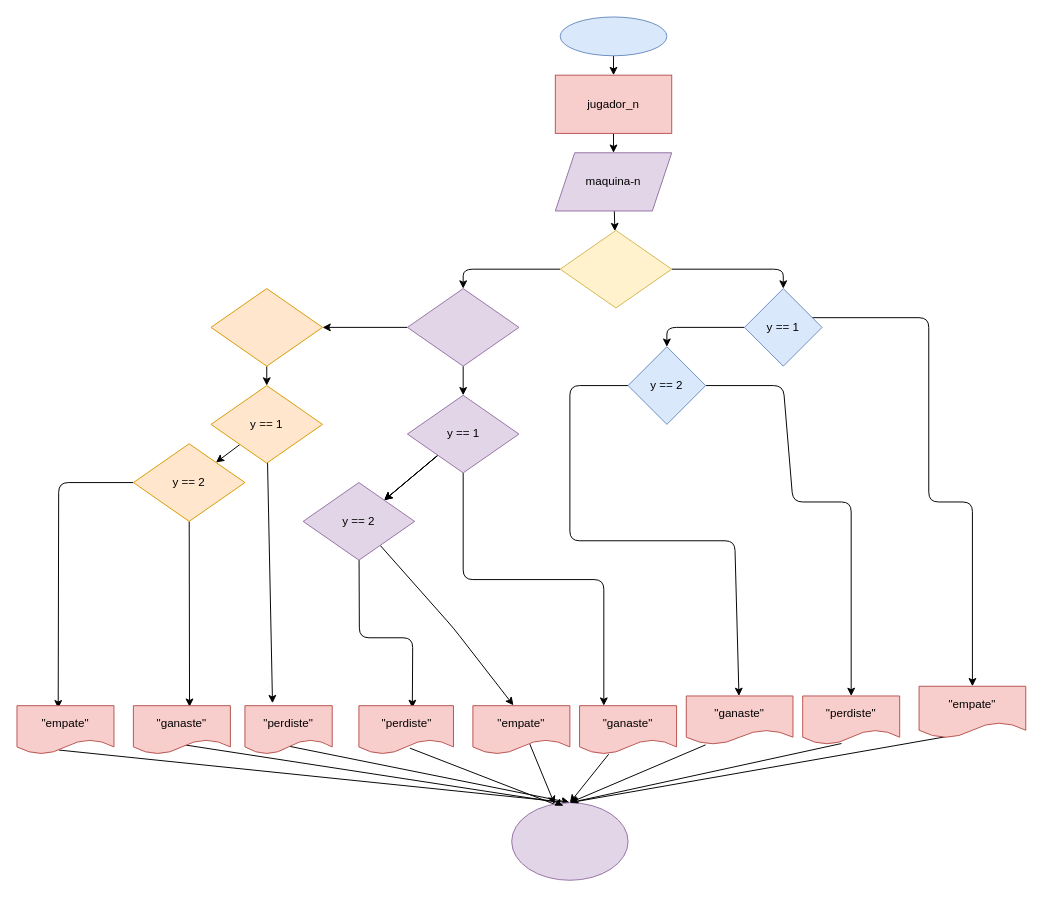
Image size: 1043x897. Some labels were removed from this diagram. The centre of each missing label's shape, as x and y in pixels:
FIIN: (569,841)
INICIO: (613,36)
x == 1: (615,268)
x == 2: (462,327)
x == 3: (266,327)
